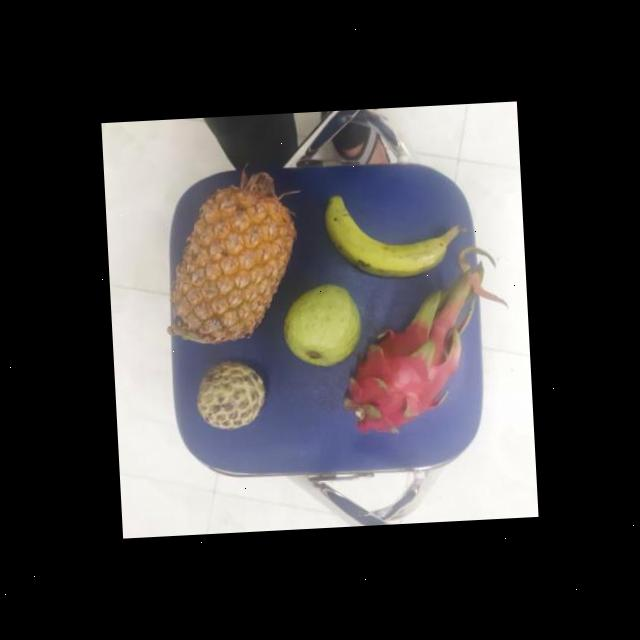Sakya fruit: (194, 358, 270, 431)
banana: (318, 185, 459, 286)
guava: (280, 286, 366, 370)
pineapple: (166, 180, 300, 347)
pitaya: (344, 317, 466, 436)
